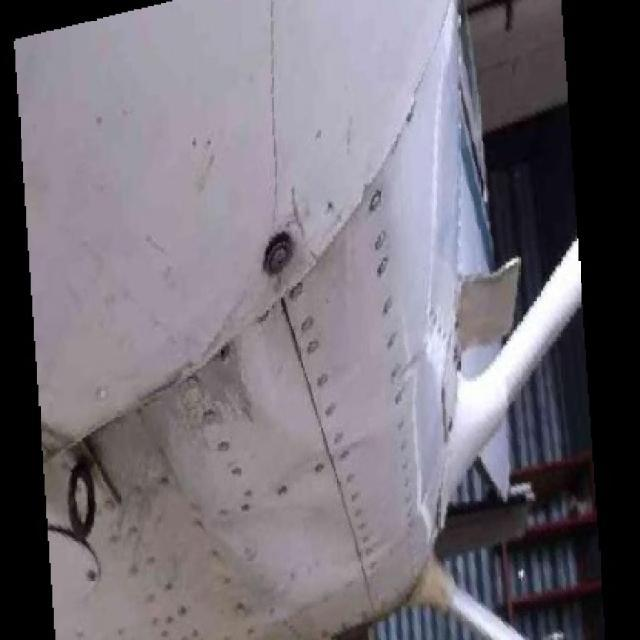dent: (236, 264, 338, 455), (212, 489, 343, 607)
